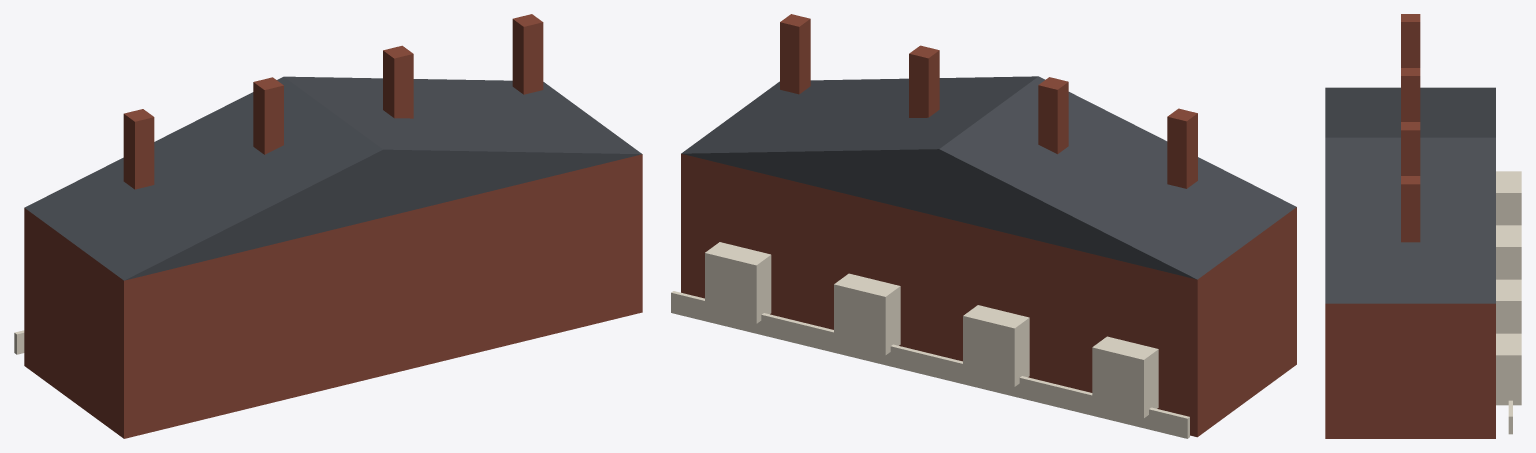
Rendered from d-gb-01-terrace-brick.glb.
3 renders of one model, left to right at view 1: azimuth 30°, elevation 25°; view 2: azimuth 150°, elevation 25°; view 3: azimuth 270°, elevation 25°, orthographic. The views are drawn at different scales.
Visible parts, largest first — view 1: part0, part1, part9, part3, part5, part7; view 2: part0, part1, part10, part4, part2, part6, part8, part9, part3, part5, part7; view 3: part1, part0, part8, part2, part4, part6, part9, part3, part5, part7.
Part boxes in pixels (box(x1,y1,x2,y2)): part0: box(24, 154, 642, 438); part1: box(24, 76, 642, 280); part9: box(512, 14, 543, 94); part3: box(123, 109, 154, 189); part5: box(253, 77, 283, 154); part7: box(383, 45, 413, 118); part0: box(681, 153, 1296, 437); part1: box(681, 76, 1296, 279); part10: box(671, 291, 1189, 438); part4: box(963, 305, 1029, 386); part2: box(1092, 336, 1158, 418); part6: box(834, 273, 900, 355); part8: box(705, 242, 771, 323); part9: box(780, 14, 810, 94); part3: box(1167, 108, 1197, 188); part5: box(1038, 77, 1068, 154); part7: box(909, 45, 939, 117); part1: box(1325, 87, 1495, 303); part0: box(1325, 303, 1495, 438); part8: box(1496, 333, 1521, 405); part2: box(1496, 171, 1521, 225); part4: box(1496, 225, 1521, 279); part6: box(1496, 279, 1521, 333); part9: box(1401, 176, 1420, 242); part3: box(1401, 14, 1420, 67); part5: box(1401, 68, 1420, 121); part7: box(1401, 122, 1420, 175).
Size of the model in its own units: 24000 by 12000 by 9200.
